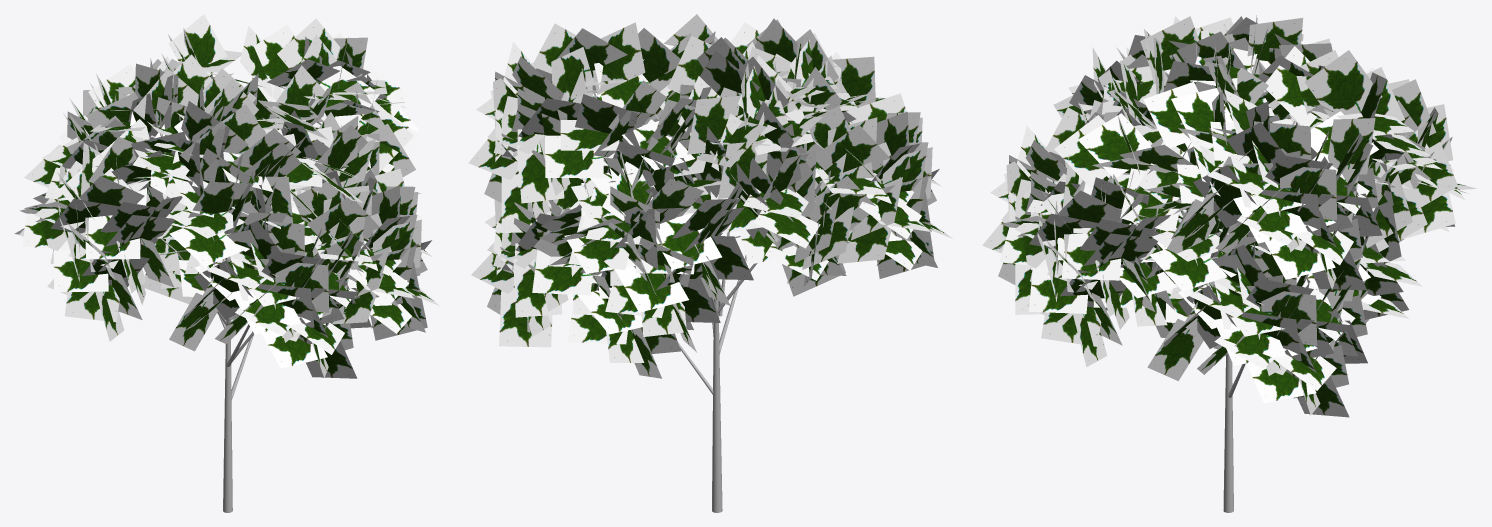
Rendered from tree.dae.
The picture shows the model from 3 angles, left to right: view 1: azimuth 30°, elevation 25°; view 2: azimuth 150°, elevation 25°; view 3: azimuth 270°, elevation 25°; orthographic projection. The views are drawn at different scales.
Parts seen in each view (by area): view 1: Component_1 (×93), Component_5; view 2: Component_1 (×92), Component_5; view 3: Component_1 (×90), Component_5.
Part boxes in pixels (left/top/right/bottom): Component_1 (×93): left=19, top=14, right=427, bottom=378; Component_5: left=223, top=326, right=232, bottom=512; Component_1 (×92): left=468, top=14, right=934, bottom=378; Component_5: left=712, top=299, right=722, bottom=512; Component_1 (×90): left=999, top=16, right=1457, bottom=417; Component_5: left=1223, top=353, right=1233, bottom=512.
Bounding box in the file's own units: 62.19 × 62.16 × 65.81.
